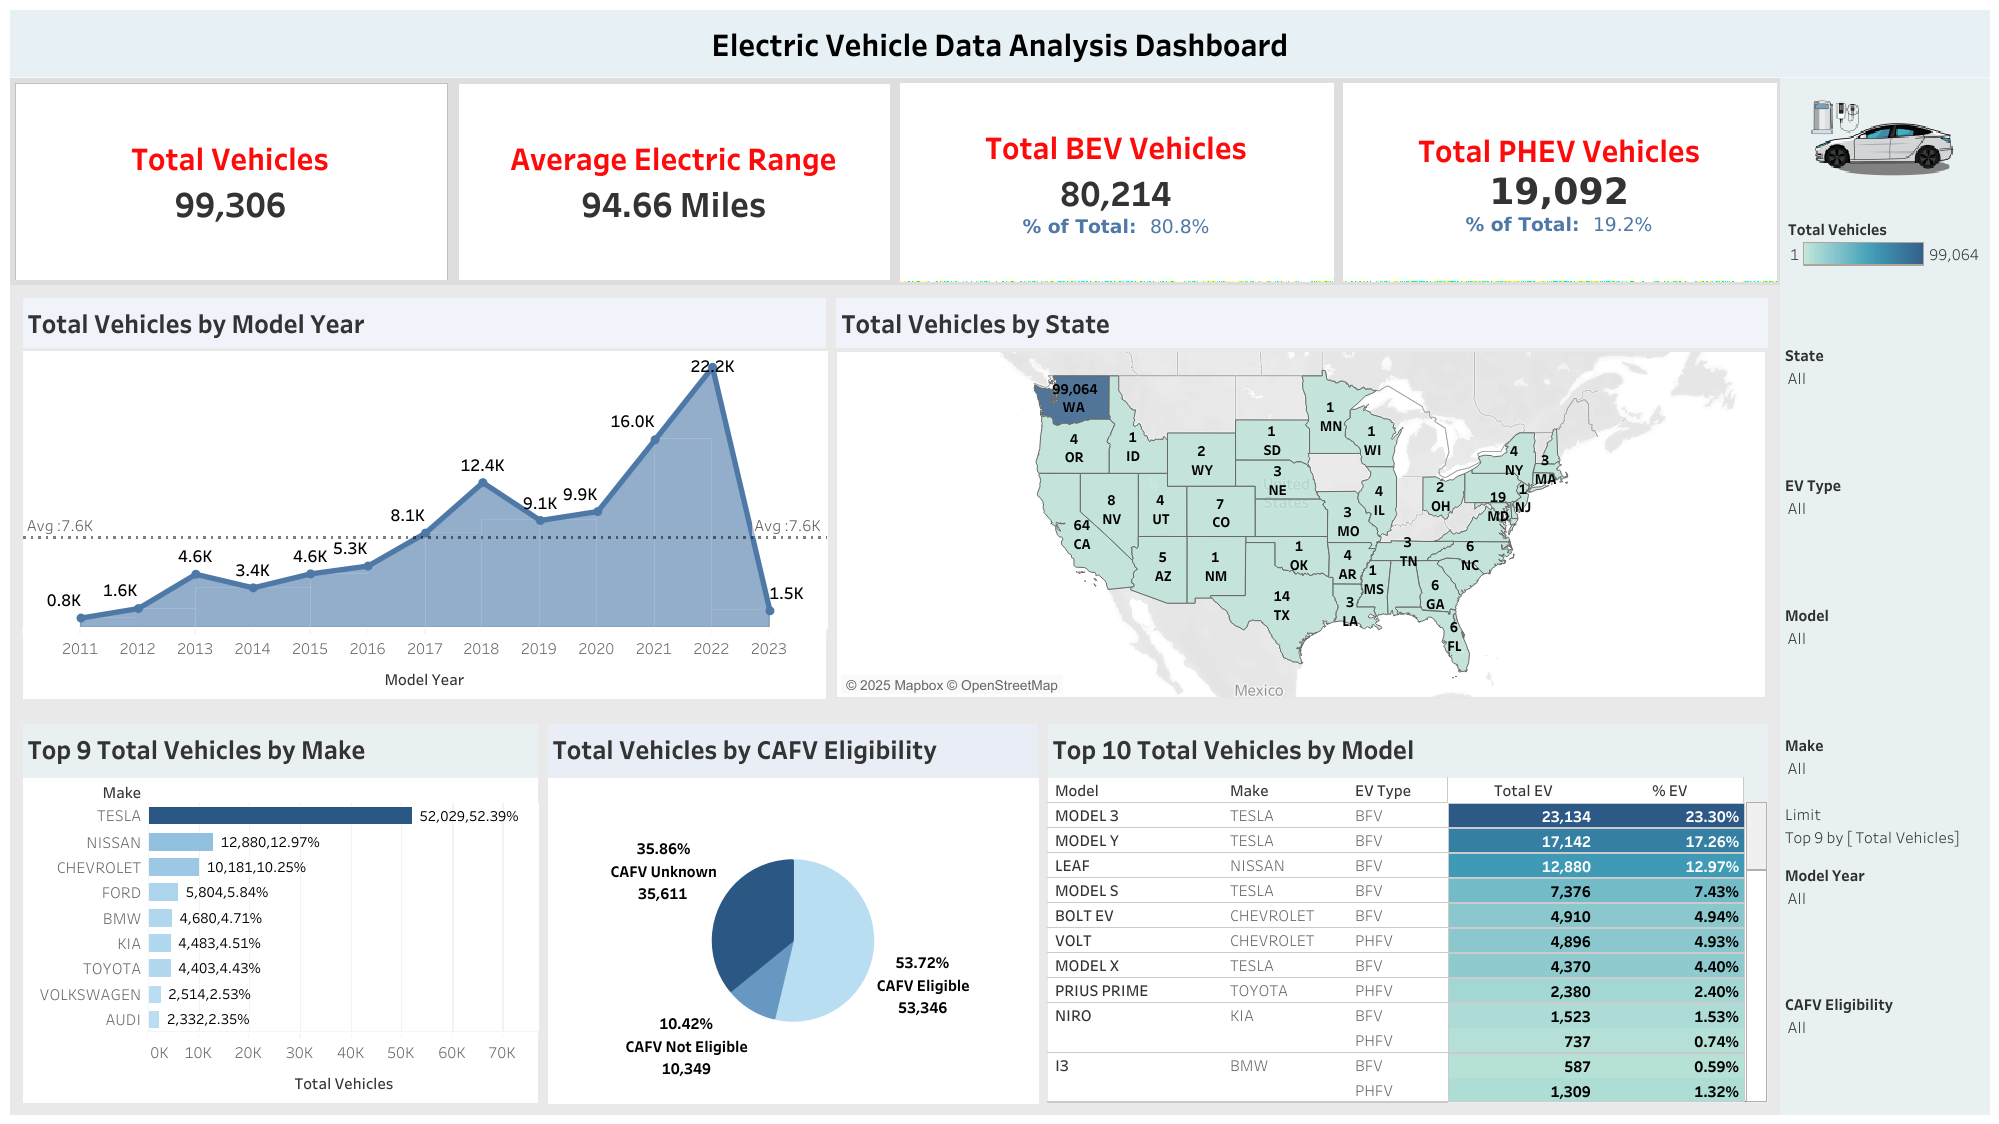

What the dashboard file says about the page in this screenshot:
{"tool":"tableau","page":{"name":"Dashboard 1","canvas":[1600,900],"ordinal":0},"visuals":[{"type":"title","box":[8,8,1584,54]},{"type":"worksheet","title":"Total Vehicles","mark":"Automatic","box":[8,62,354,166]},{"type":"worksheet","title":"Average Electric Range","mark":"Automatic","box":[362,62,354,166]},{"type":"worksheet","title":"Total BEV Vehicles and % of Total BEV Vehicles","mark":"Automatic","box":[716,62,354,166]},{"type":"worksheet","title":"Total PHEV Vehicles and % of Total PHEV Vehicles","mark":"Automatic","box":[1070,62,354,166]},{"type":"image","param":"Image/white-electric-car-modern-style-free-png.png","box":[1424,62,168,104]},{"type":"legend","title":"Total Vehicles by State","param":"[federated.0sl202710u8yow11tsuoo186vyql].[usr:Calculation_650488711128711168:qk]","box":[1424,166,168,104]},{"type":"worksheet","title":"Total Vehicles by Model Year ","mark":"Area","rows":["Calculation_650488711128711168","Calculation_650488711128711168"],"cols":["Model Year"],"box":[14,233.9,651,329.5]},{"type":"worksheet","title":"Total Vehicles by State","mark":"Automatic","box":[665,233.9,753,329.5]},{"type":"filter","title":"Top 10 Total Vehicles by Make","param":"[federated.0sl202710u8yow11tsuoo186vyql].[none:State:nk]","box":[1424,270,168,104]},{"type":"filter","title":"Top 10 Total Vehicles by Make","param":"[federated.0sl202710u8yow11tsuoo186vyql].[none:Electric Vehicle Type:nk]","box":[1424,374,168,104]},{"type":"filter","title":"Top 10 Total Vehicles by Make","param":"[federated.0sl202710u8yow11tsuoo186vyql].[none:Model:nk]","box":[1424,478,168,104]},{"type":"worksheet","title":"Top 10 Total Vehicles by Make","mark":"Automatic","rows":["Make"],"cols":["Calculation_650488711128711168"],"box":[14,575.4,420,310.6]},{"type":"worksheet","title":"Total Vehicles by CAFV Eligibility","mark":"Pie","box":[434,575.4,400,310.6]},{"type":"worksheet","title":"Top 10 Total Vehicles by Model","mark":"Square","rows":["Model","Make","Electric Vehicle Type"],"box":[834,575.4,584,310.6]},{"type":"filter","title":"Total Vehicles by Model Year ","param":"[federated.0sl202710u8yow11tsuoo186vyql].[none:Make:nk]","box":[1424,582,168,104]},{"type":"filter","title":"Top 10 Total Vehicles by Make","param":"[federated.0sl202710u8yow11tsuoo186vyql].[Action (Model Year)]","box":[1424,686,168,103]},{"type":"filter","title":"Top 10 Total Vehicles by Make","param":"[federated.0sl202710u8yow11tsuoo186vyql].[Action (Clean Alternative Fuel Vehicle","box":[1424,789,168,103]}]}

Visuals, with their boxes in screenshot pixels (x1, y1, x2, y2), scaled from the page's 1600x900 canvas onto the 1999x1124 screenshot:
title: (10, 10, 1989, 77)
"Total Vehicles" worksheet: (10, 77, 452, 285)
"Average Electric Range" worksheet: (452, 77, 895, 285)
"Total BEV Vehicles and % of Total BEV Vehicles" worksheet: (895, 77, 1337, 285)
"Total PHEV Vehicles and % of Total PHEV Vehicles" worksheet: (1337, 77, 1779, 285)
image: (1779, 77, 1989, 207)
"Total Vehicles by State" legend: (1779, 207, 1989, 337)
"Total Vehicles by Model Year " worksheet (Area marks): (17, 292, 831, 704)
"Total Vehicles by State" worksheet: (831, 292, 1772, 704)
"Top 10 Total Vehicles by Make" filter: (1779, 337, 1989, 467)
"Top 10 Total Vehicles by Make" filter: (1779, 467, 1989, 597)
"Top 10 Total Vehicles by Make" filter: (1779, 597, 1989, 727)
"Top 10 Total Vehicles by Make" worksheet: (17, 719, 542, 1107)
"Total Vehicles by CAFV Eligibility" worksheet (Pie marks): (542, 719, 1042, 1107)
"Top 10 Total Vehicles by Model" worksheet (Square marks): (1042, 719, 1772, 1107)
"Total Vehicles by Model Year " filter: (1779, 727, 1989, 857)
"Top 10 Total Vehicles by Make" filter: (1779, 857, 1989, 985)
"Top 10 Total Vehicles by Make" filter: (1779, 985, 1989, 1114)
